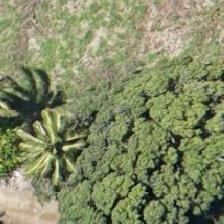coconut_tree: (123, 93, 213, 183), (0, 89, 83, 179)
